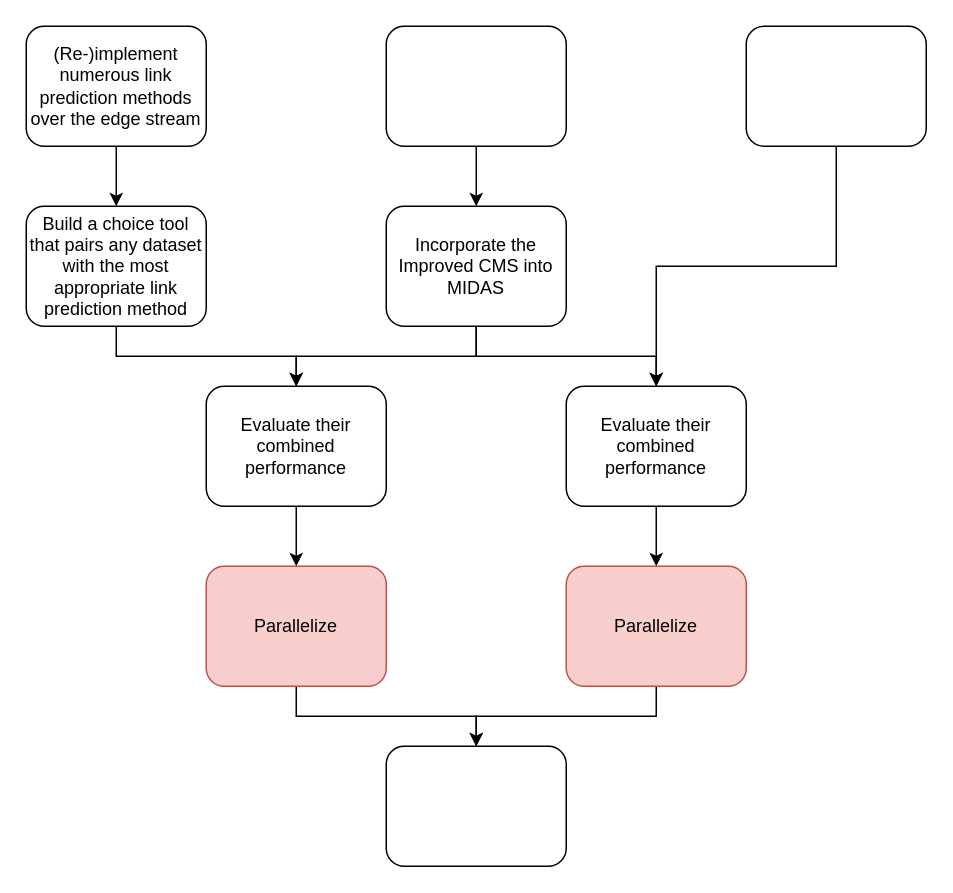
The diagram is 953 pixels wide and 893 high, and some of its shapes have lost their labels. The shapes that lost their labels are listed below. From the top down, each one's centre as x and y in pixels, then its label:
At (475,85): "Re-implement literature methods for performance comparison".
At (835,85): "Find a robust enough link prediction method".
At (475,805): "Choose the best performing method".
